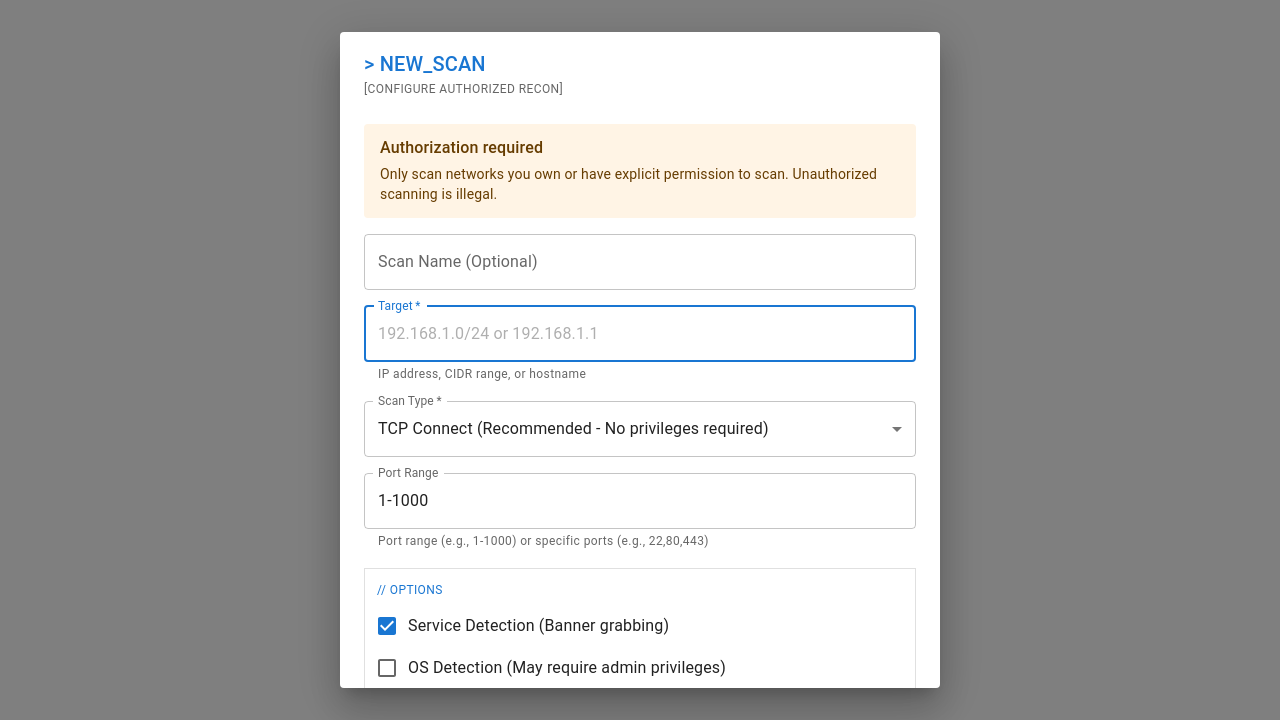
ScanDialog › blocks submission and shows validation errors for an invalid target
Type "bad_host" into the field labelled "Target *". click: (640, 334)
box: [364,306,916,362]
(page scrolled)
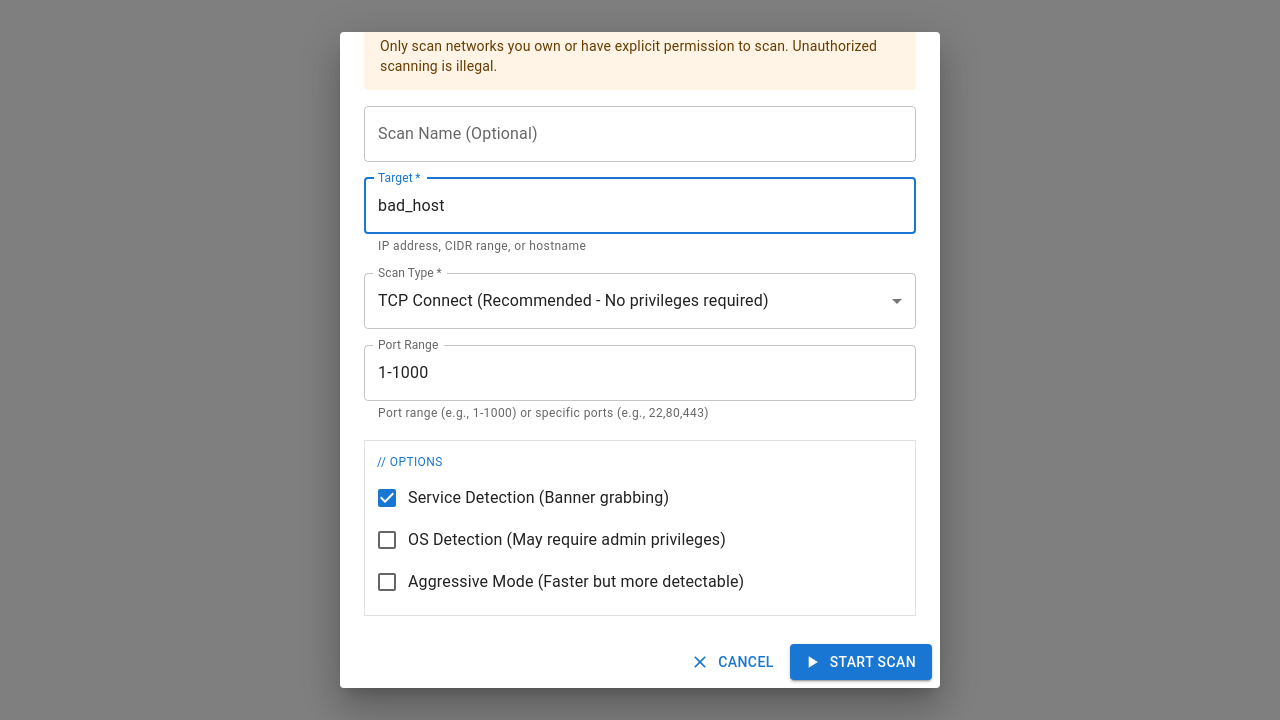
Click the button "Start Scan". click: (861, 662)
box: [790,644,932,680]
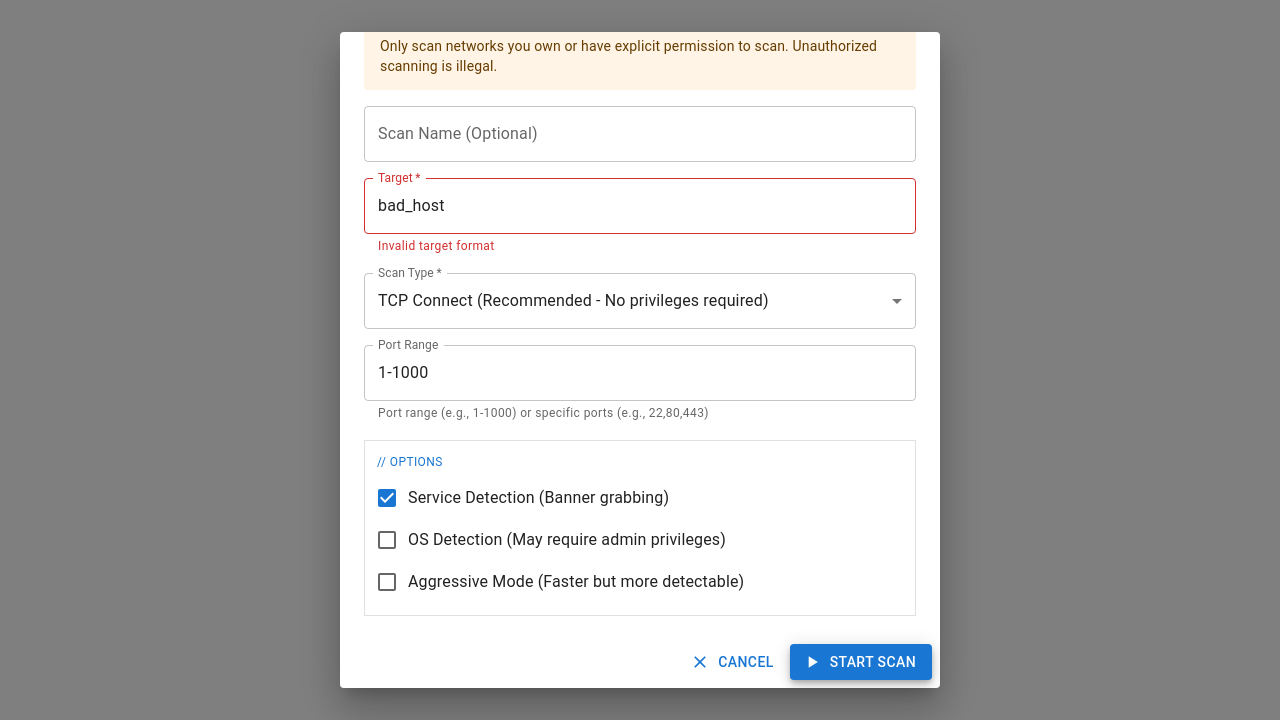
Result: the text "Invalid target format" is shown at [378,239,495,253]
